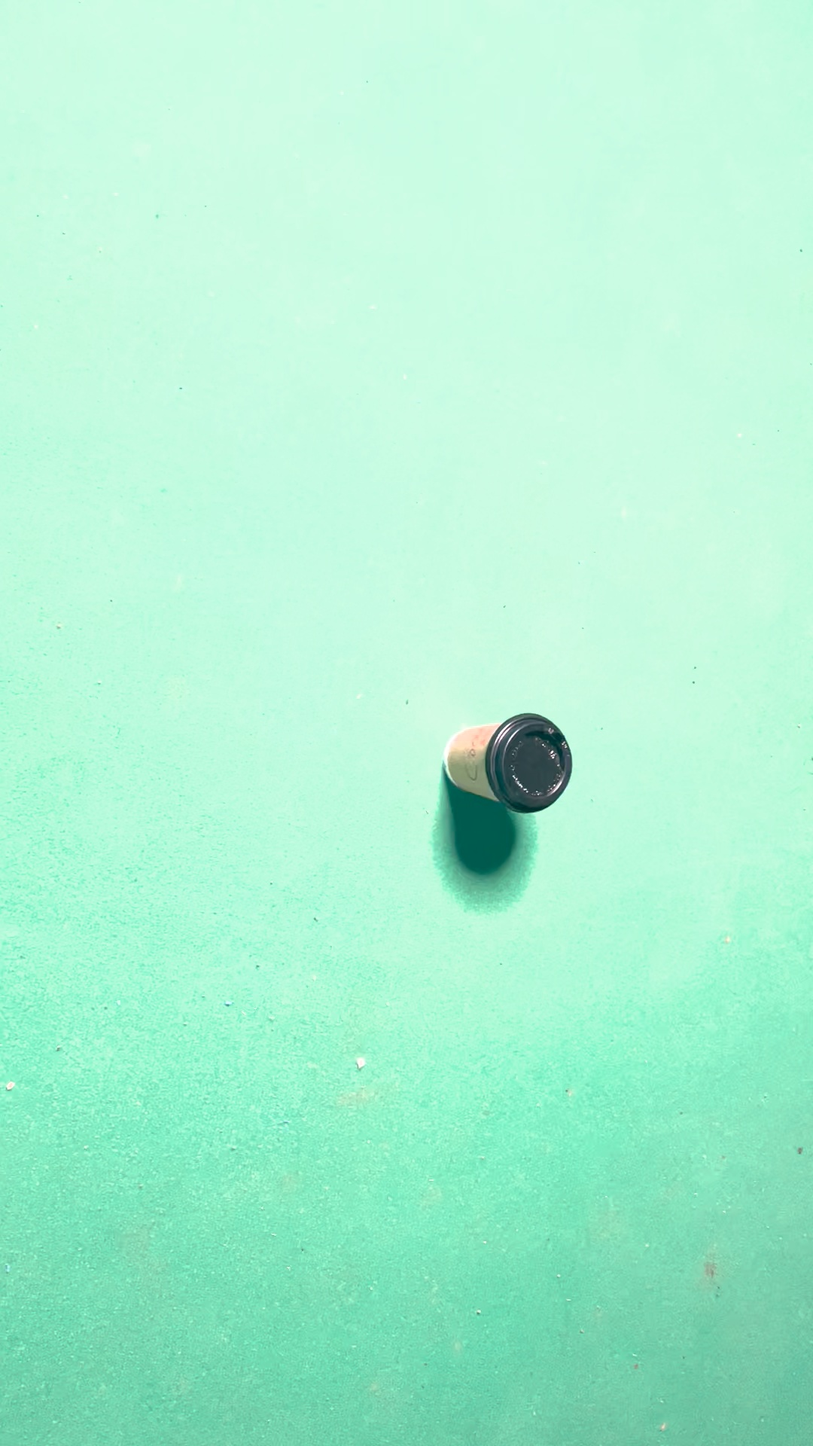cup: (392, 785, 463, 1109)
